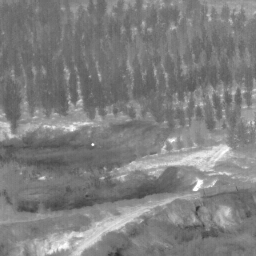aircraft: (92, 144, 94, 146)
